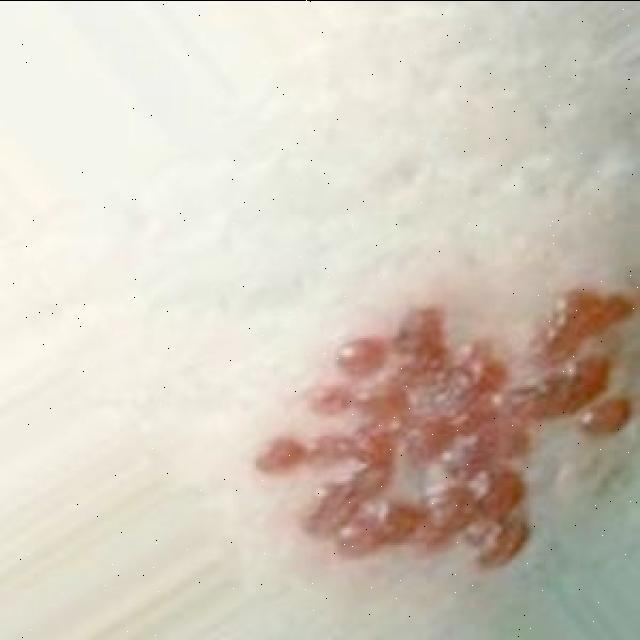Shingles: (252, 289, 640, 569)
